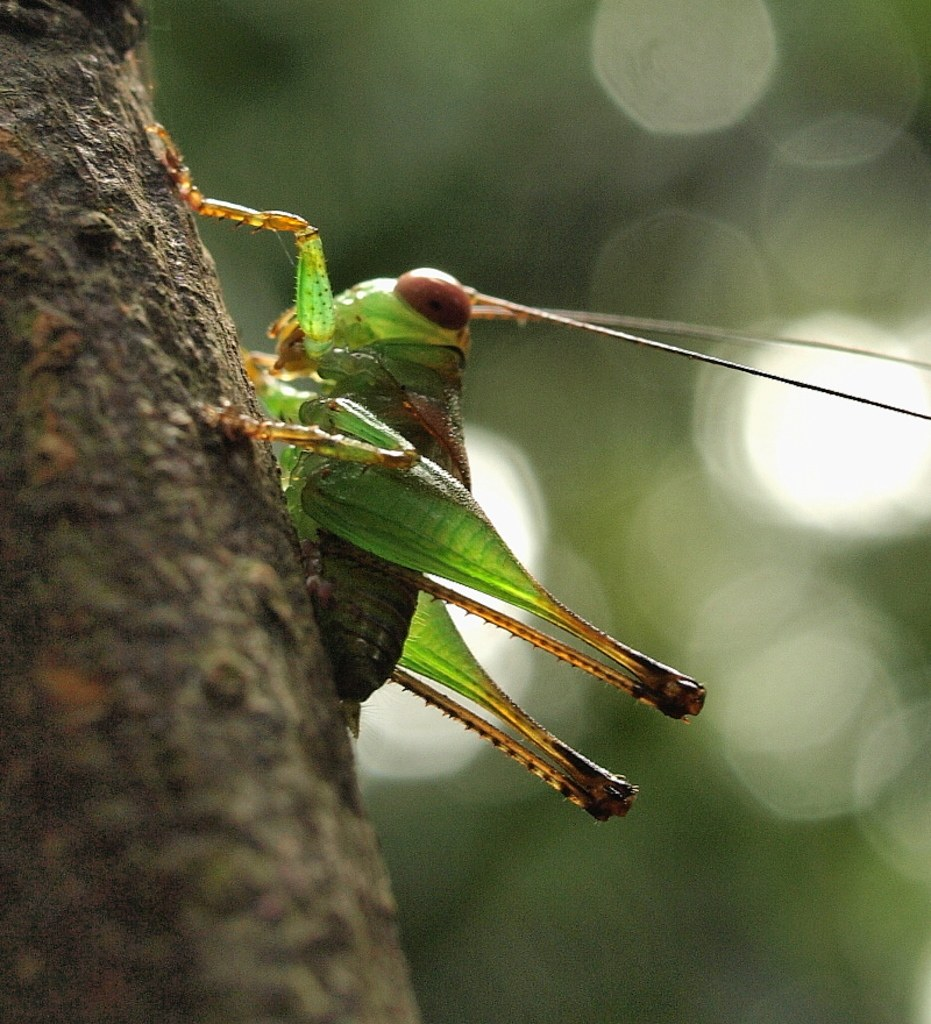insect: (142, 115, 930, 826)
